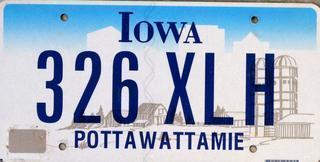placa de veiculo: (2, 1, 318, 160)
